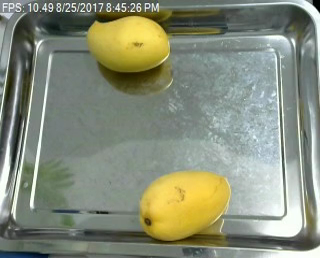Mango: (139, 163, 230, 240), (84, 12, 173, 77)
